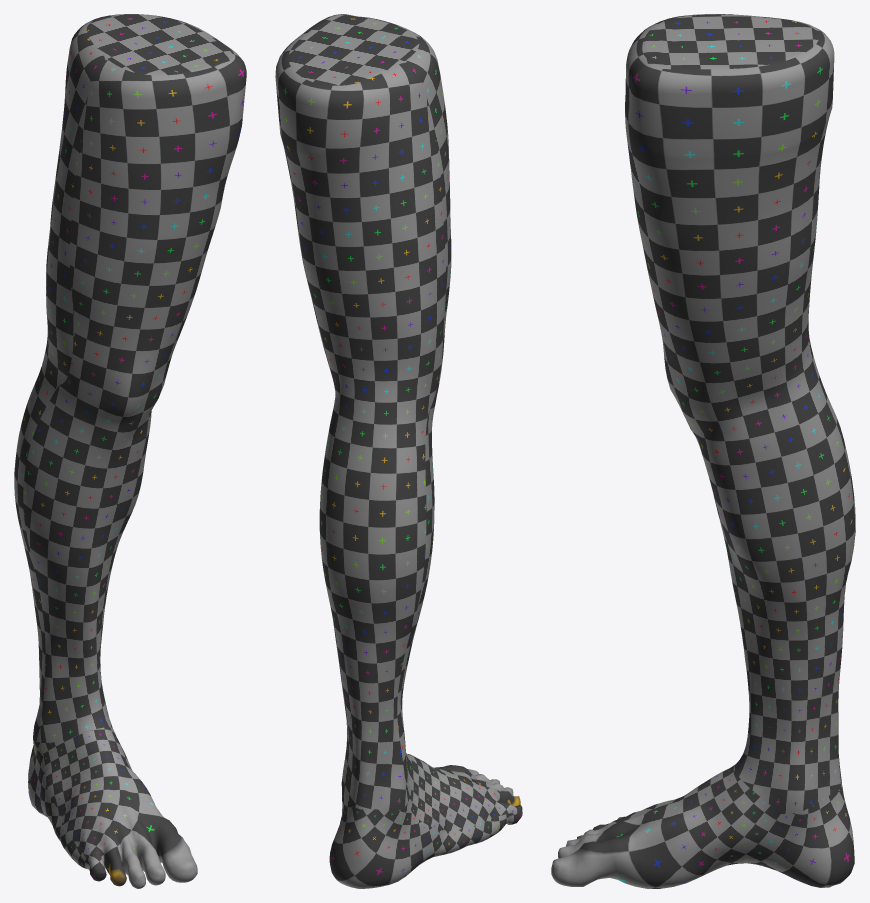
The model's file is leg_right.glb.
The picture shows the model from 3 angles, left to right: view 1: azimuth 30°, elevation 25°; view 2: azimuth 150°, elevation 25°; view 3: azimuth 270°, elevation 25°; orthographic projection. The views are drawn at different scales.
Visible parts, largest first — view 1: FinalBaseMesh.001; view 2: FinalBaseMesh.001; view 3: FinalBaseMesh.001.
Part boxes in pixels (x1=…): FinalBaseMesh.001: x1=14, y1=14, x2=246, y2=888; FinalBaseMesh.001: x1=275, y1=14, x2=522, y2=888; FinalBaseMesh.001: x1=551, y1=14, x2=855, y2=888.
Bounding box in the file's own units: 2.52 × 10.62 × 3.38.
Materials: 1 (1 with a texture image).
